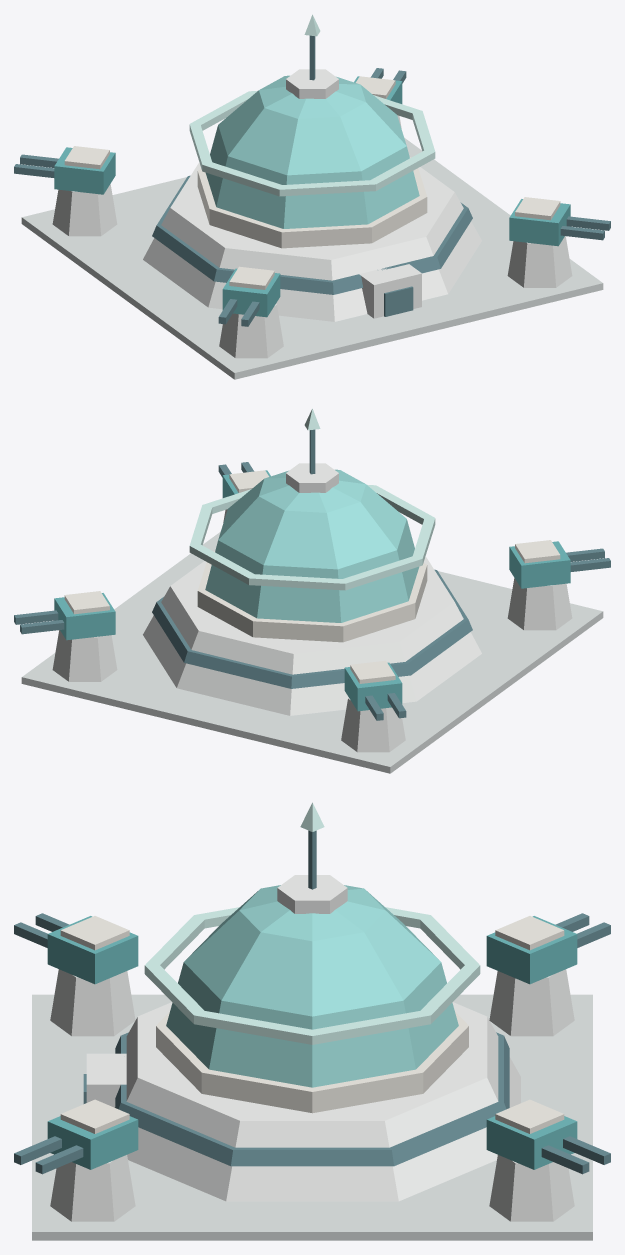
The model's file is fort.glb.
3 views of the same model, one above another, from view 1: azimuth 30°, elevation 25°; view 2: azimuth 150°, elevation 25°; view 3: azimuth 270°, elevation 25° (orthographic). The views are drawn at different scales.
Visible parts, largest first — view 1: arcology_fort; view 2: arcology_fort; view 3: arcology_fort.
Part boxes in pixels (bbox=[...]): arcology_fort: bbox=[14, 14, 610, 379]; arcology_fort: bbox=[14, 408, 610, 773]; arcology_fort: bbox=[14, 802, 610, 1240].
Bounding box in the file's own units: 0.9788 × 0.579 × 0.9788.
